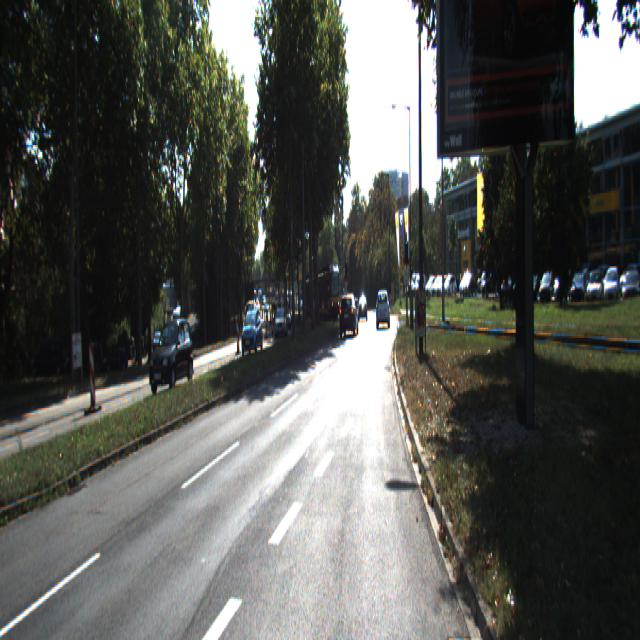Car: (148, 316, 194, 394), (308, 267, 340, 322), (241, 310, 263, 356), (340, 293, 360, 338), (376, 292, 389, 329)
